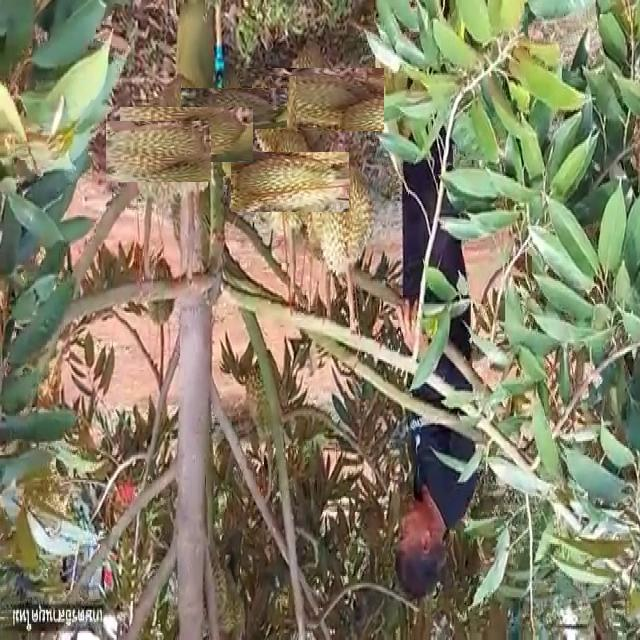durian: (260, 48, 364, 152), (139, 87, 234, 181), (245, 138, 334, 227), (117, 109, 200, 193), (322, 165, 376, 284), (197, 72, 271, 146), (252, 76, 296, 170)
